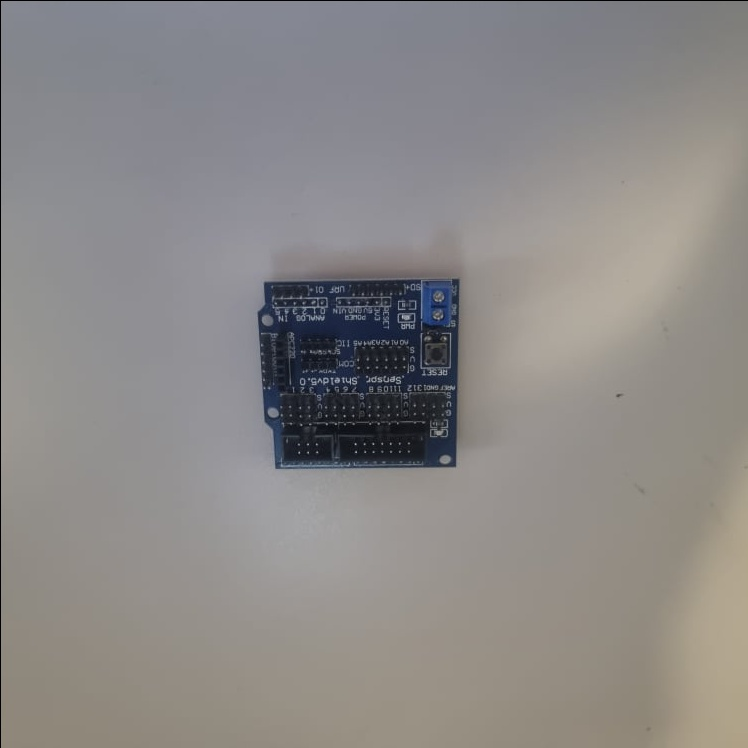5V EXPANSION: (251, 275, 458, 470)
